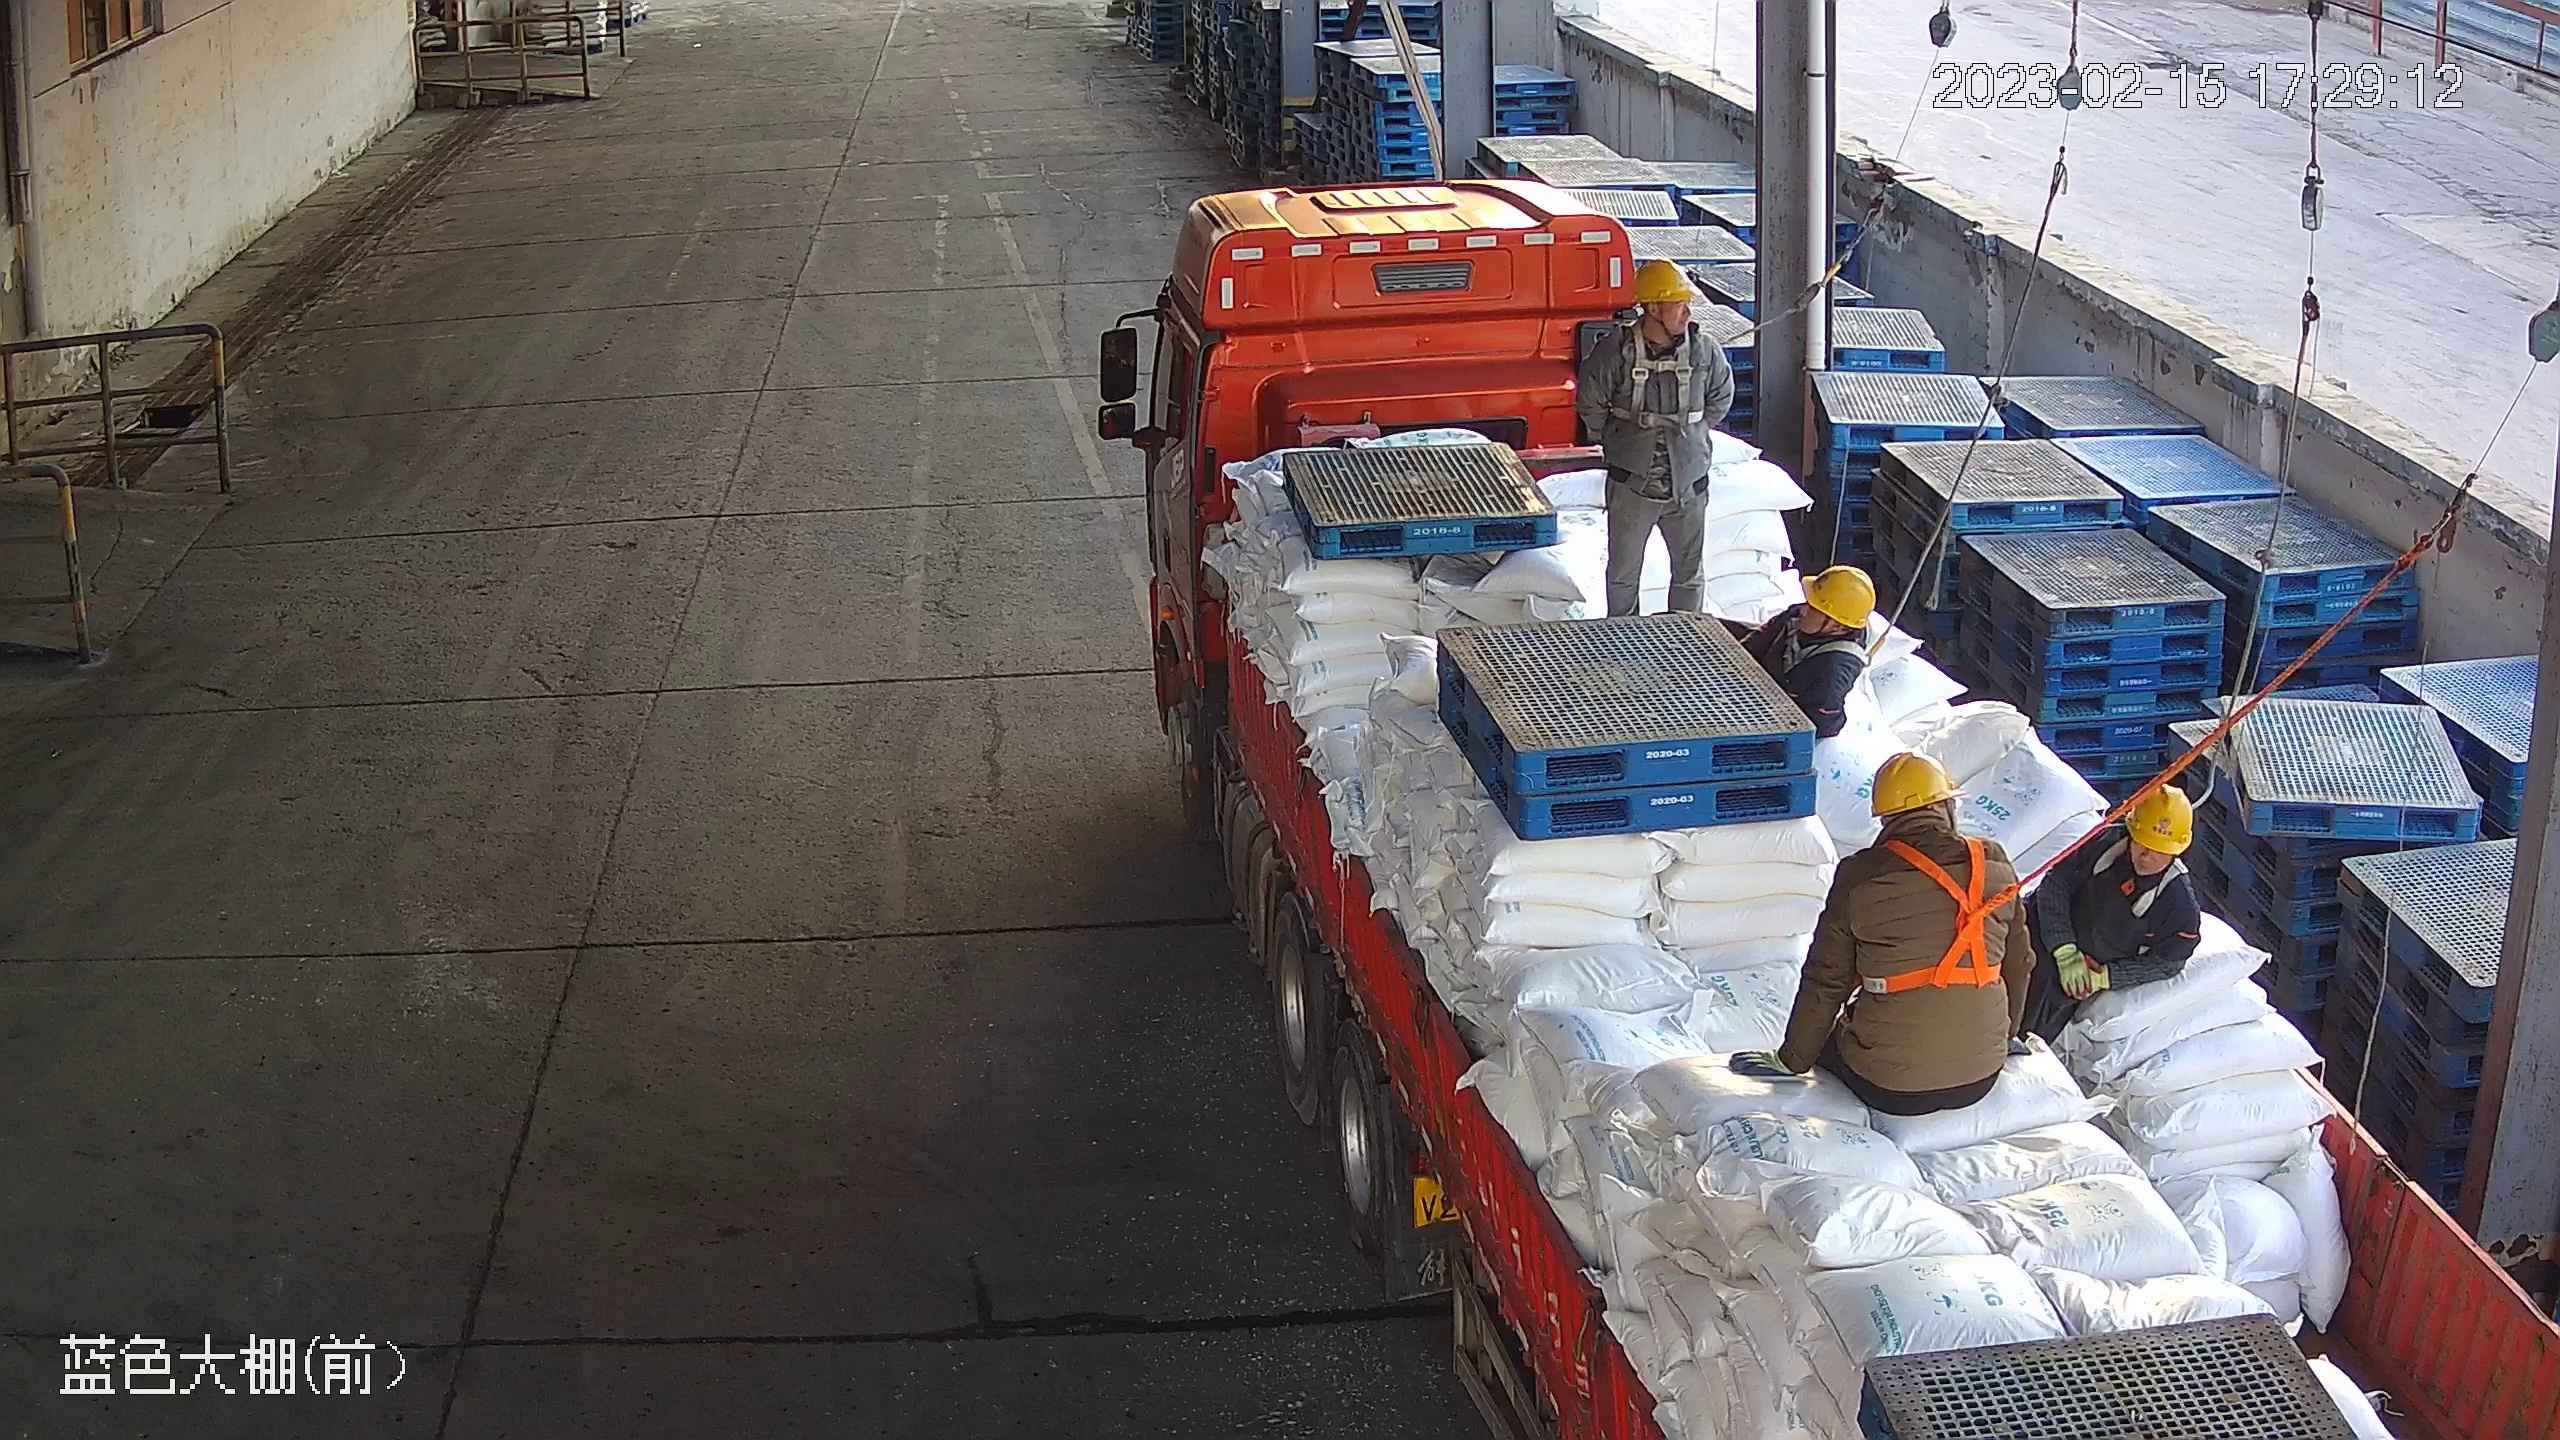belt: (1855, 846, 2030, 992), (1621, 346, 1716, 436), (1777, 634, 1856, 699), (2109, 864, 2186, 925)
head: (1841, 750, 2000, 881), (2076, 781, 2197, 902), (1602, 255, 1720, 365), (1776, 569, 1872, 683)
helmet: (1800, 558, 1879, 622), (1872, 748, 1949, 811), (2128, 788, 2193, 851), (1627, 251, 1692, 308)
people: (1735, 755, 2030, 1122), (1574, 258, 1741, 606), (2013, 785, 2195, 1016)
truck: (1084, 176, 2560, 1440)
